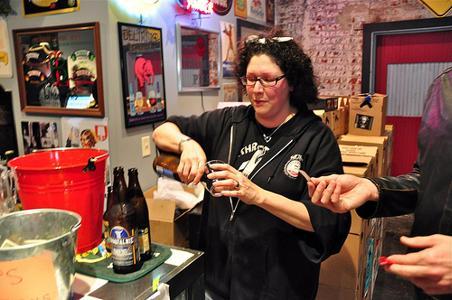person: (153, 33, 352, 300)
